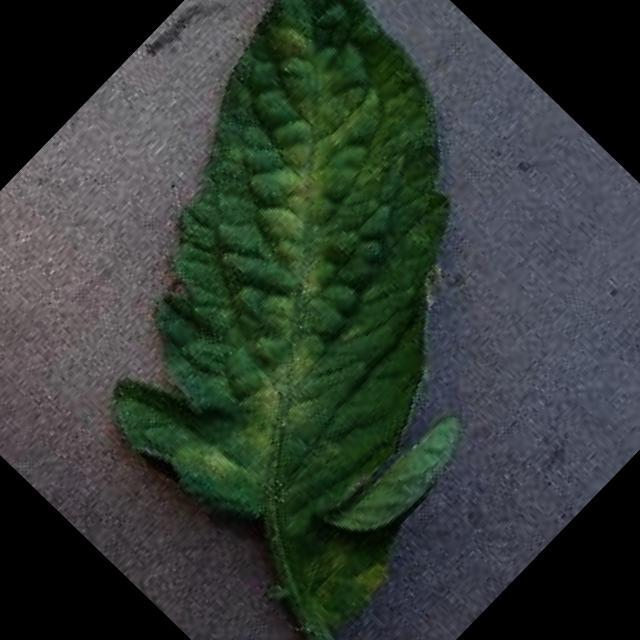Tomato mold leaf: (0, 0, 606, 578)
